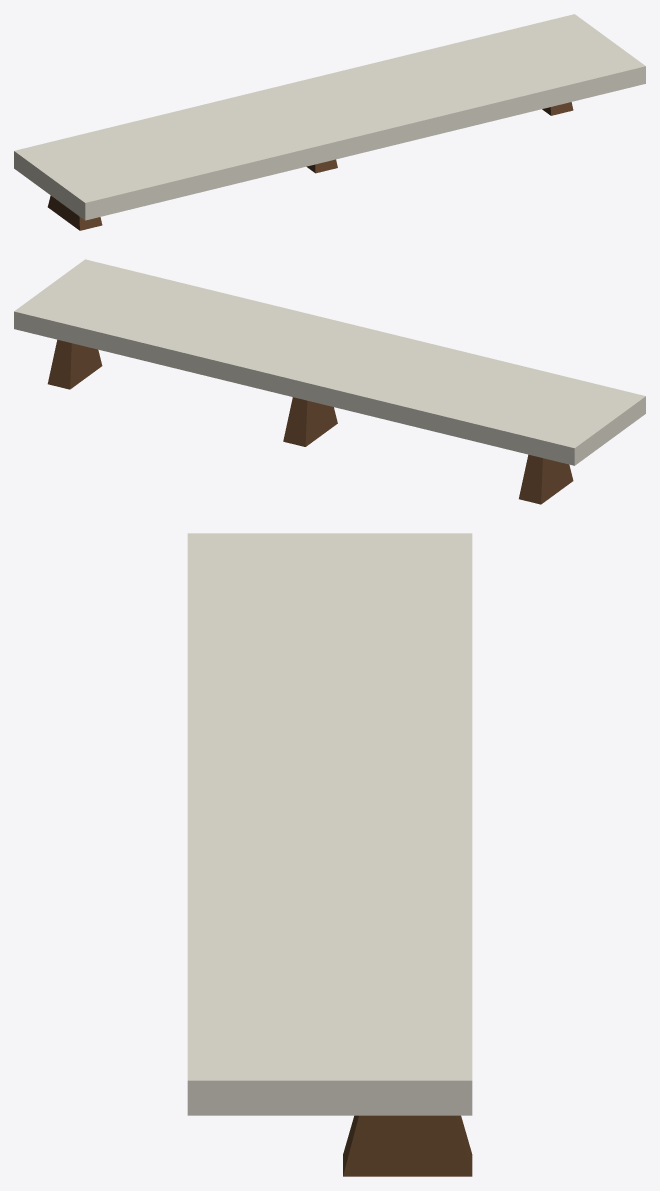
Rendered from GH_Shelf_Wall_03.glb.
3 renders of one model, top to bottom at view 1: azimuth 30°, elevation 25°; view 2: azimuth 150°, elevation 25°; view 3: azimuth 270°, elevation 25°, orthographic. The views are drawn at different scales.
Parts seen in each view (by area): view 1: GH_Shelf_Wall_03; view 2: GH_Shelf_Wall_03; view 3: GH_Shelf_Wall_03.
Part boxes in pixels (left/top/right/bottom): GH_Shelf_Wall_03: left=14, top=14, right=645, bottom=230; GH_Shelf_Wall_03: left=14, top=259, right=645, bottom=504; GH_Shelf_Wall_03: left=187, top=533, right=472, bottom=1176.
Bounding box in the file's own units: 1 × 0.11 × 0.22.
1 material, 1 textured.
